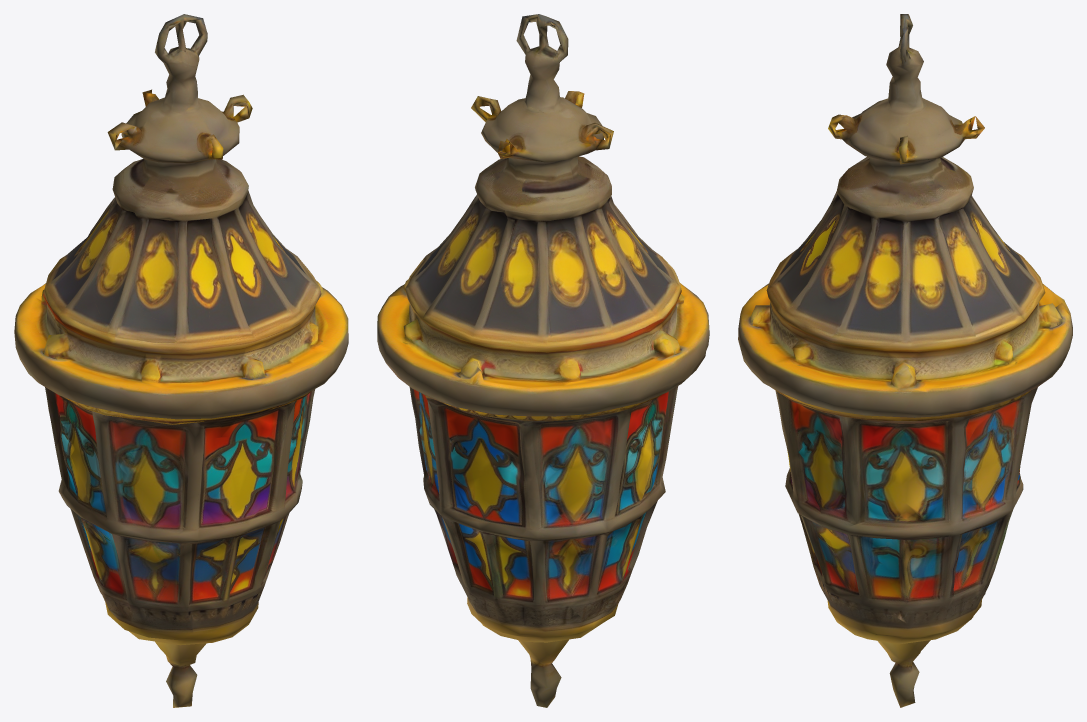
Rendered from lantern_turkey.glb.
The picture shows the model from 3 angles, left to right: view 1: azimuth 30°, elevation 25°; view 2: azimuth 150°, elevation 25°; view 3: azimuth 270°, elevation 25°; orthographic projection.
Bounding box in the file's own units: 0.8754 × 2 × 0.8801.
Materials: 1 (1 with a texture image).
